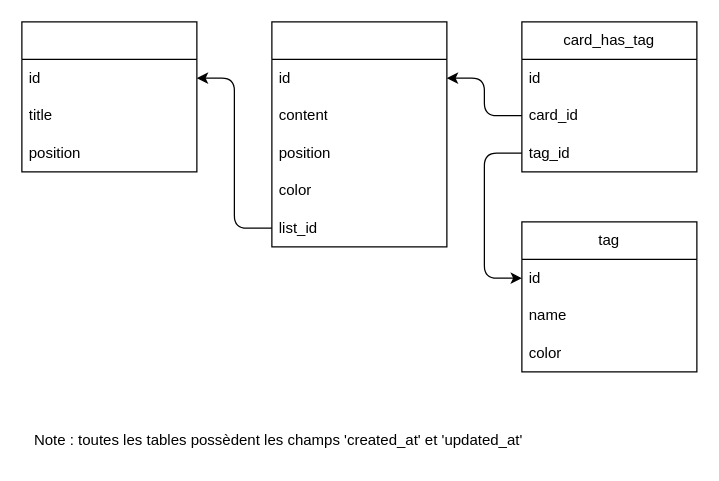
Image size: 719x481. Some labels were removed from this diagram. Here are the shapes that lost their labels. From the top down, the box of each, then its label:
(21, 21, 197, 172): list
(271, 21, 447, 247): card
